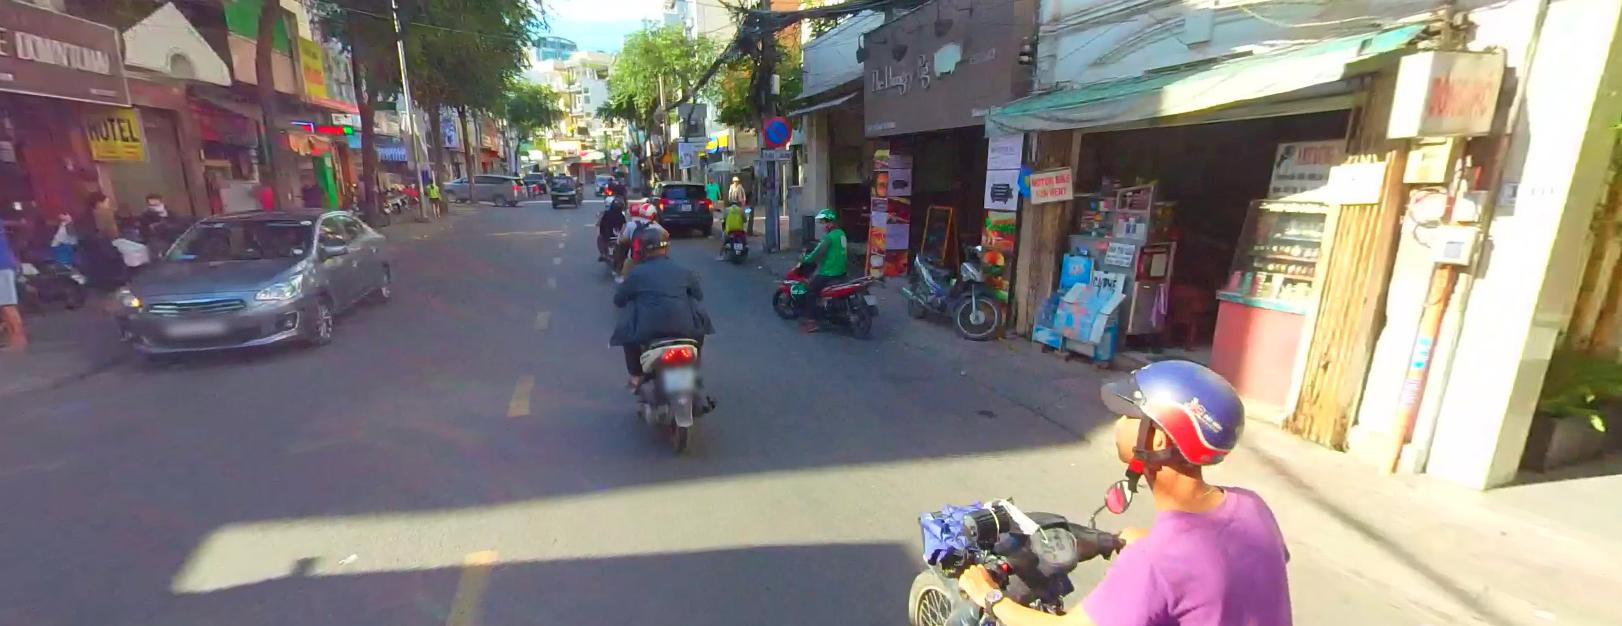Cam dung va do: (762, 116, 790, 146)
